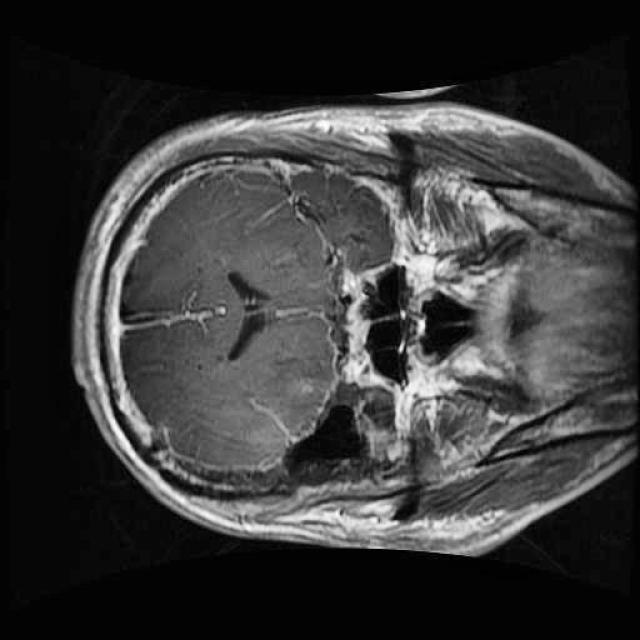Tumor: (252, 360, 410, 516)
